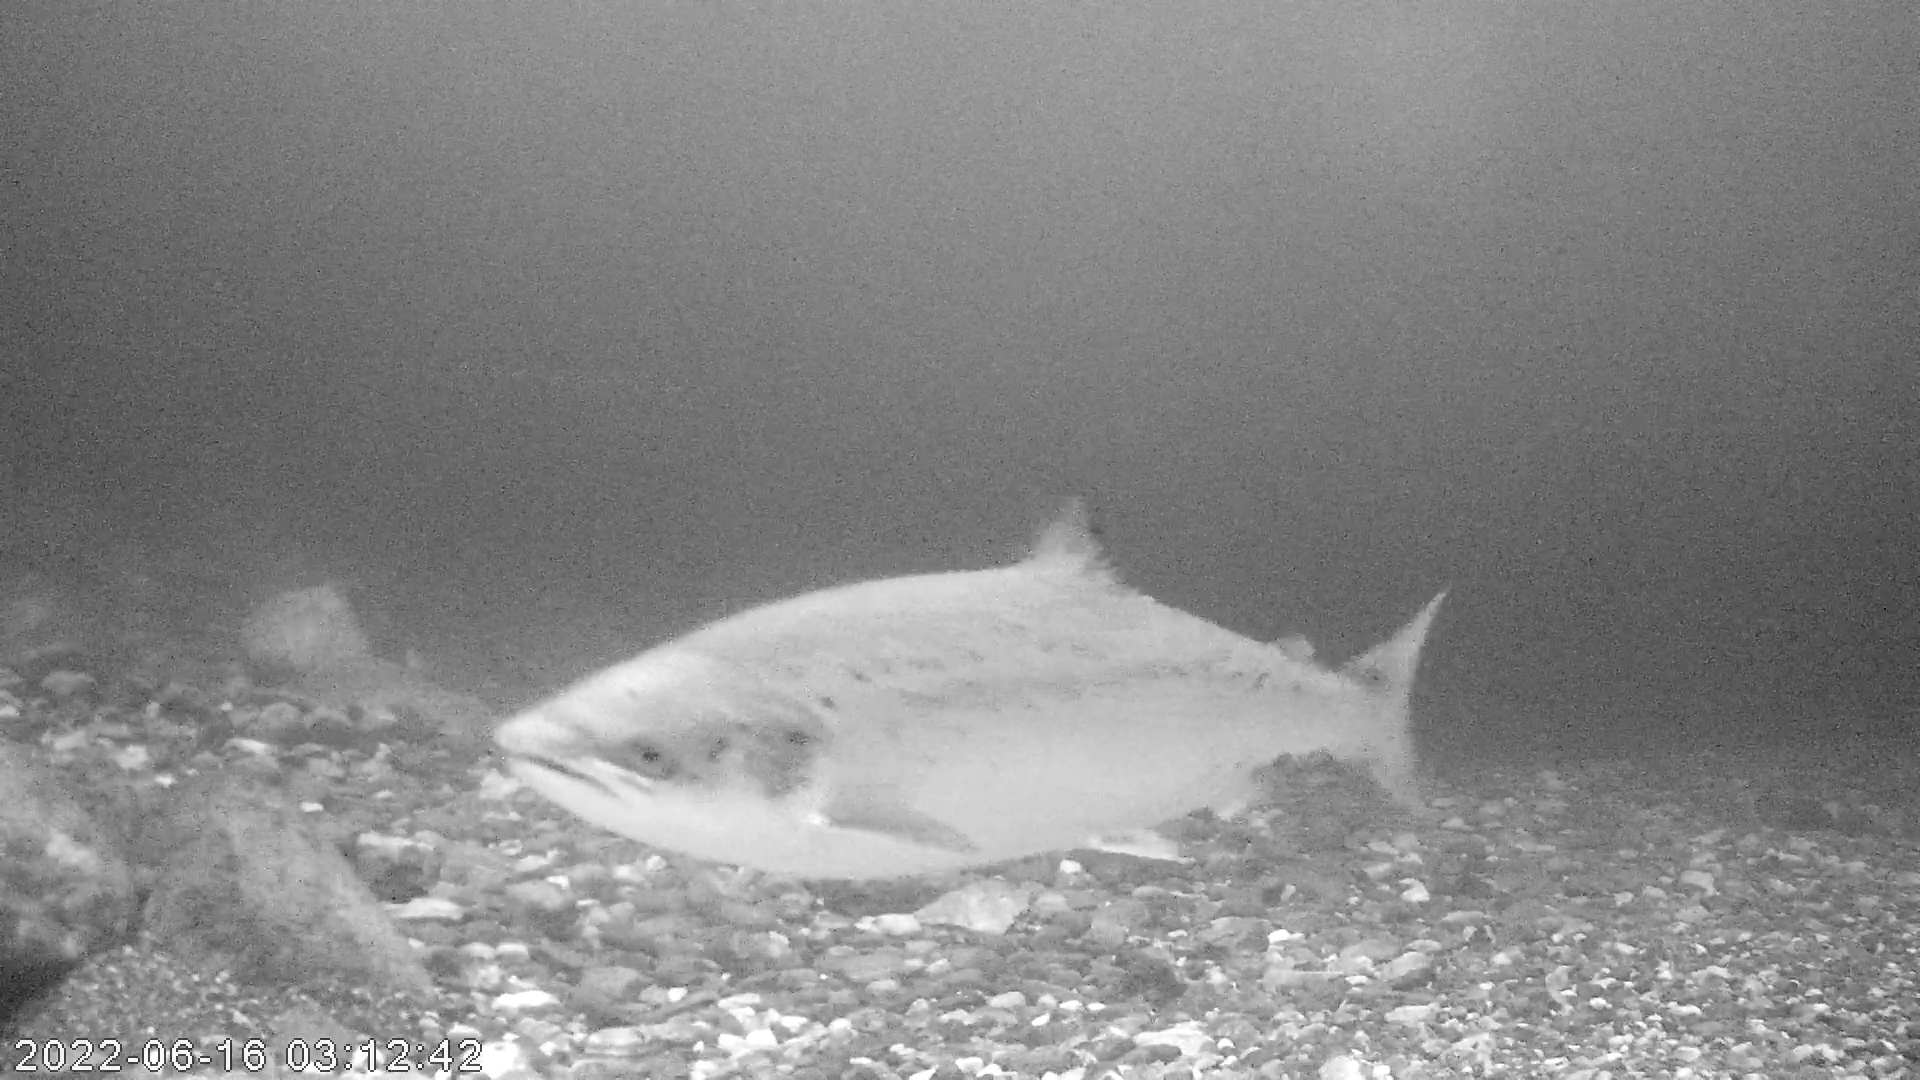salmon: (493, 491, 1452, 886)
